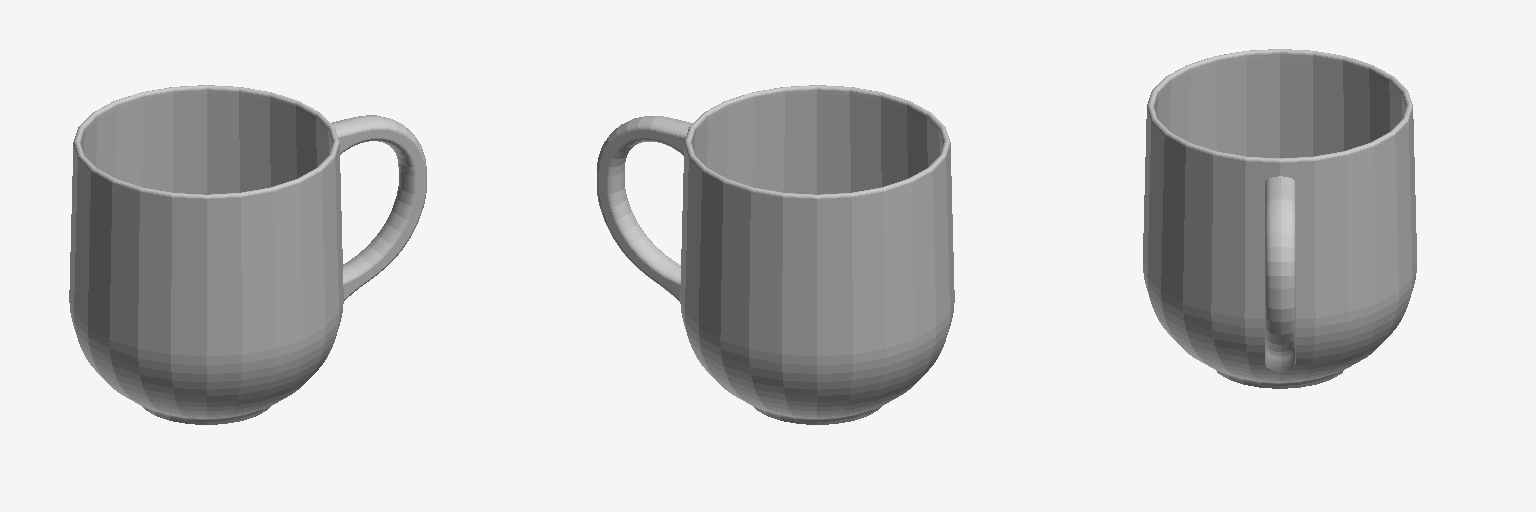
Rendered from cup2.obj.
The picture shows the model from 3 angles: view 1: azimuth 30°, elevation 25°; view 2: azimuth 150°, elevation 25°; view 3: azimuth 270°, elevation 25°; orthographic projection.
Parts seen in each view (by area): view 1: cup; view 2: cup; view 3: cup.
Part boxes in pixels (bbox=[...]): cup: bbox=[69, 85, 426, 424]; cup: bbox=[597, 85, 954, 424]; cup: bbox=[1143, 49, 1416, 388].
Bounding box in the file's own units: 631 × 458 × 446.